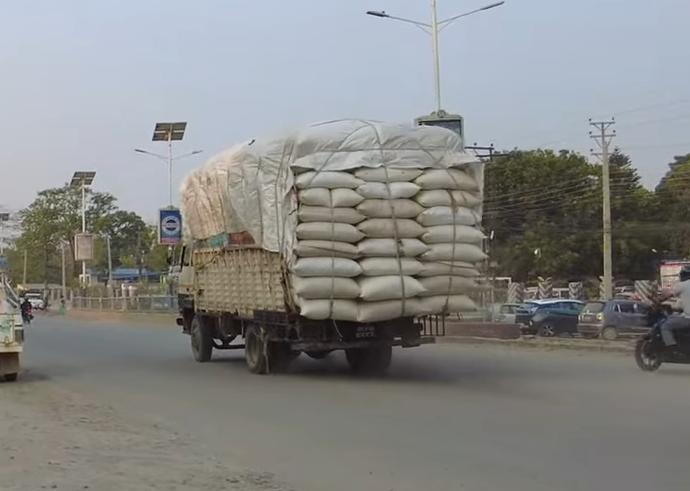bike: (632, 294, 690, 371)
car: (577, 294, 659, 342), (511, 294, 584, 341)
truck: (169, 113, 490, 374)
